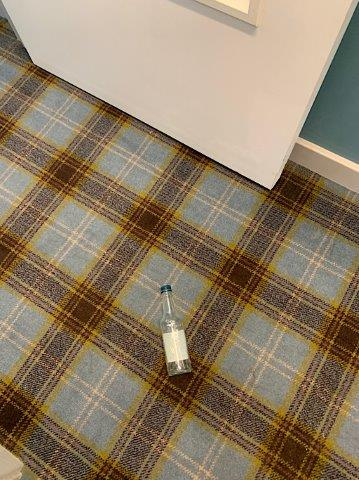botolkaca: (161, 286, 191, 374)
